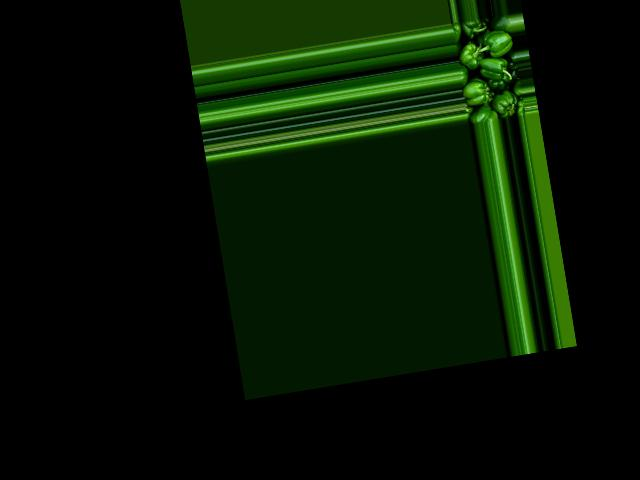bell_pepper: (490, 13, 512, 39)
